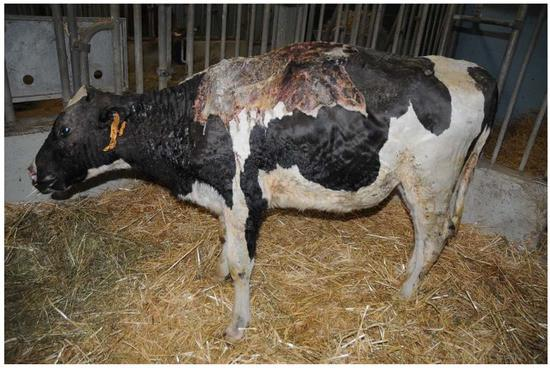infection: (166, 36, 389, 170)
